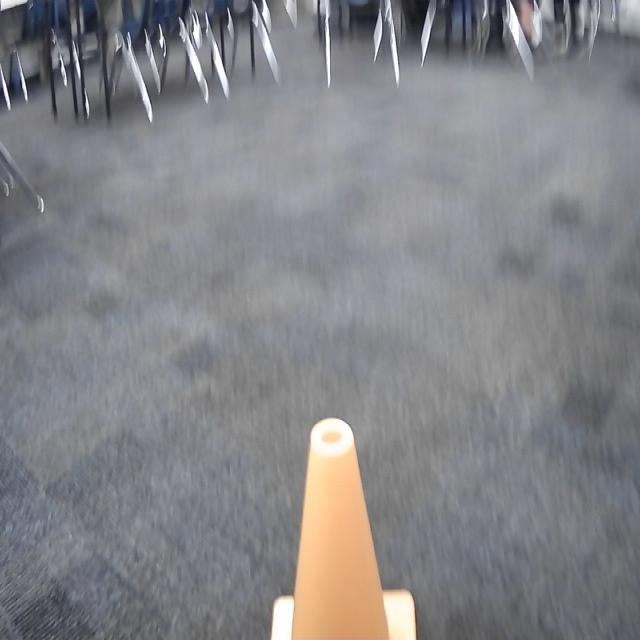cone: (269, 413, 422, 640)
